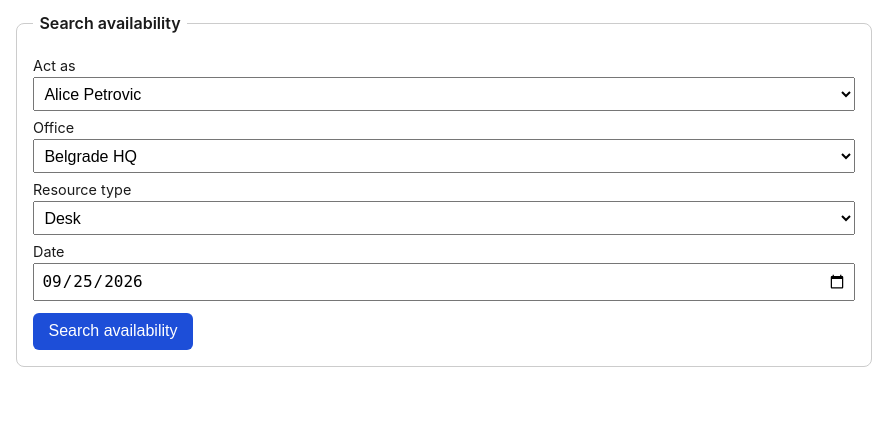
Scenario: SearchPanel (TASK-17 §A, booking creation rendering) › shows a distinct message when the backend is unreachable (network failure)
Click the button "Search availability" at (113, 332), box [33, 313, 193, 350]
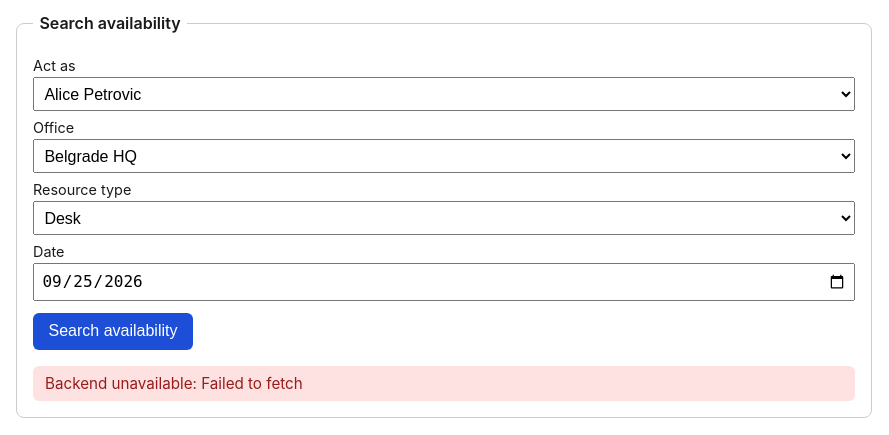
Expected: the text "Backend unavailable: Failed to fetch" is shown, [33, 366, 855, 401]
